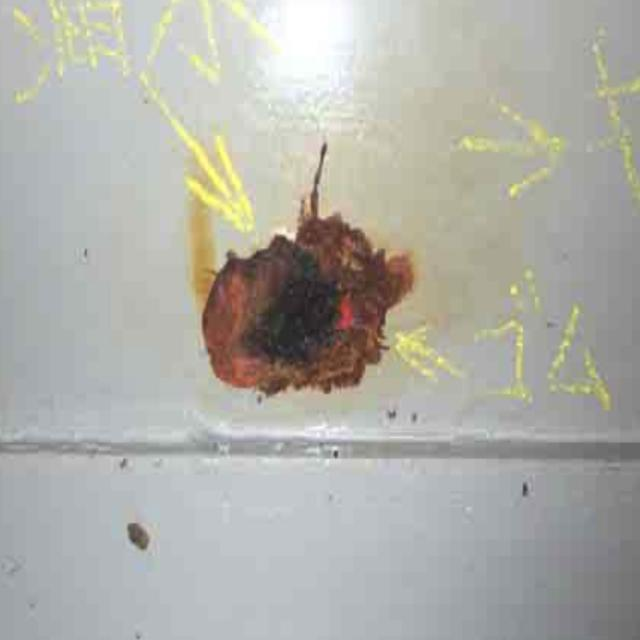corrosion: (178, 156, 423, 443)
